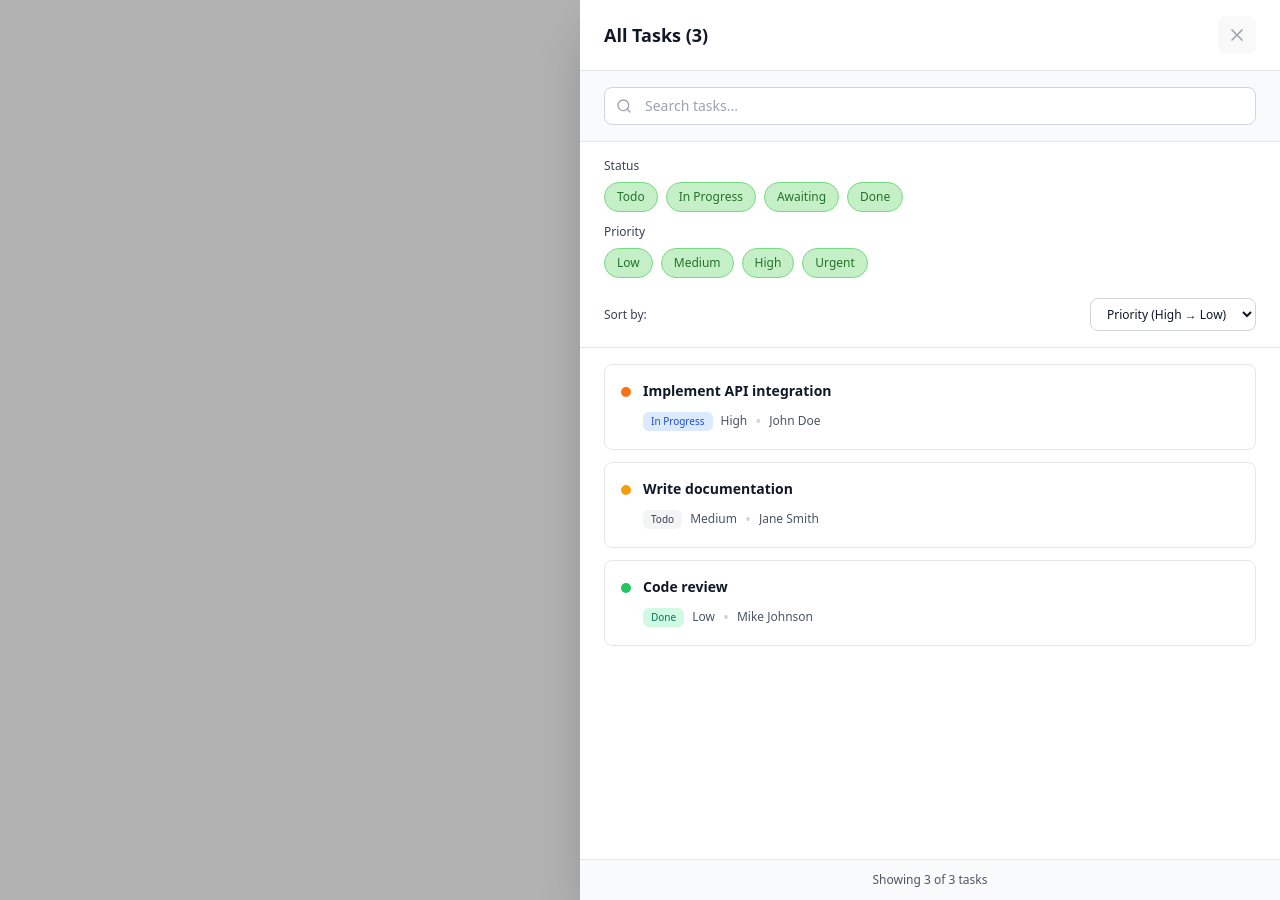
ViewAllTasksModal › Status Filter › should filter tasks when status checkbox unchecked
This screenshot has width=1280, height=900.
Uncheck "Done" status
Click the checkbox with test id "filter-done-checkbox" at (875, 197), box [847,182,903,212]
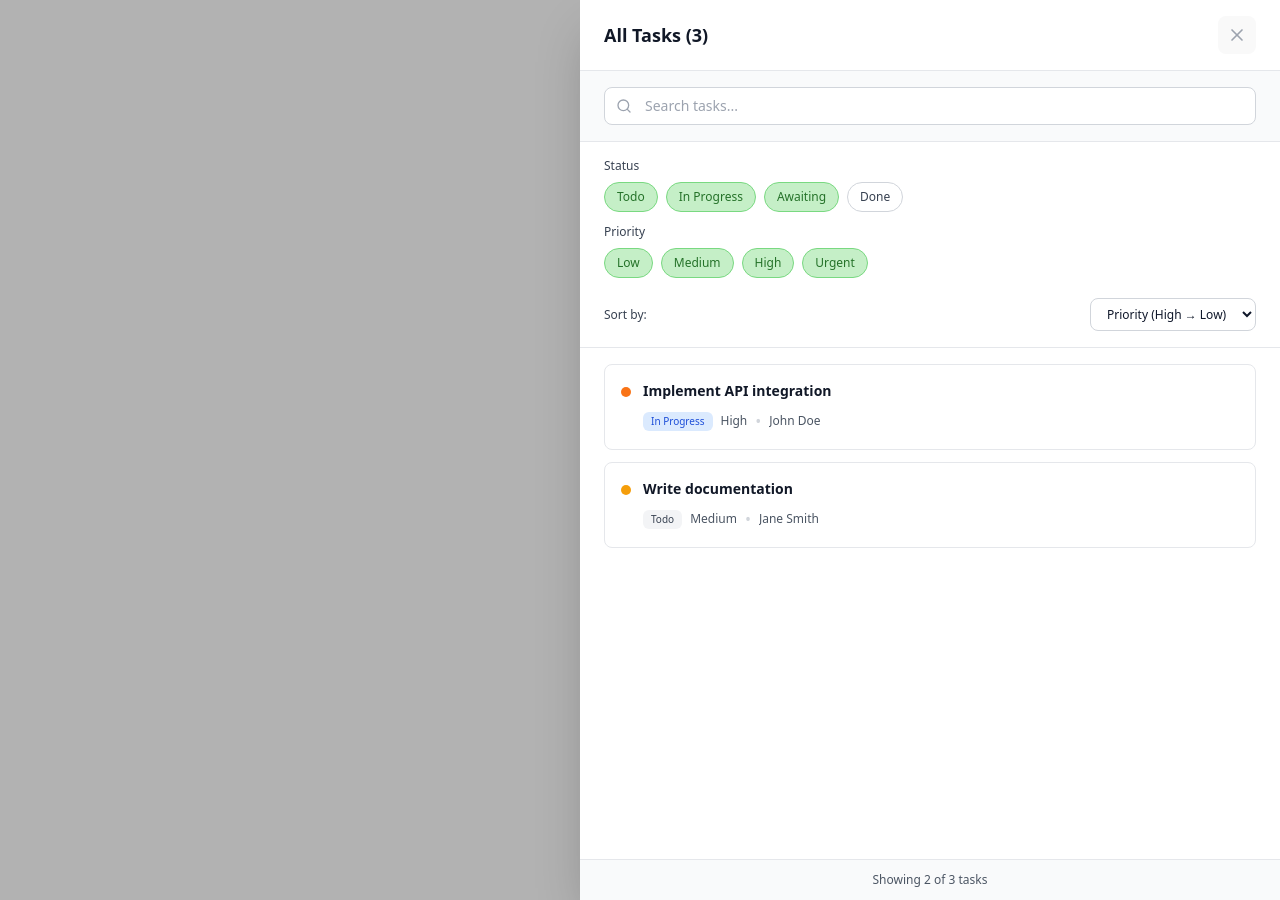
Expected: the heading "Code review" is gone
